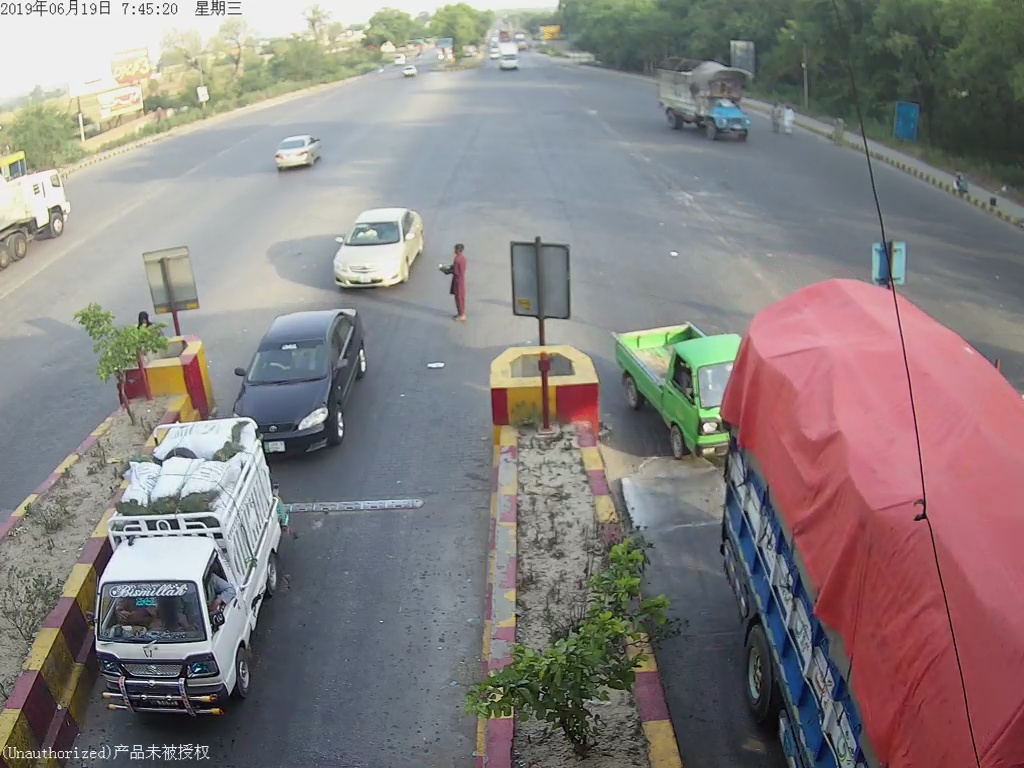Cat-1: (97, 417, 290, 703), (236, 312, 377, 436), (617, 317, 717, 454), (331, 203, 428, 295)
